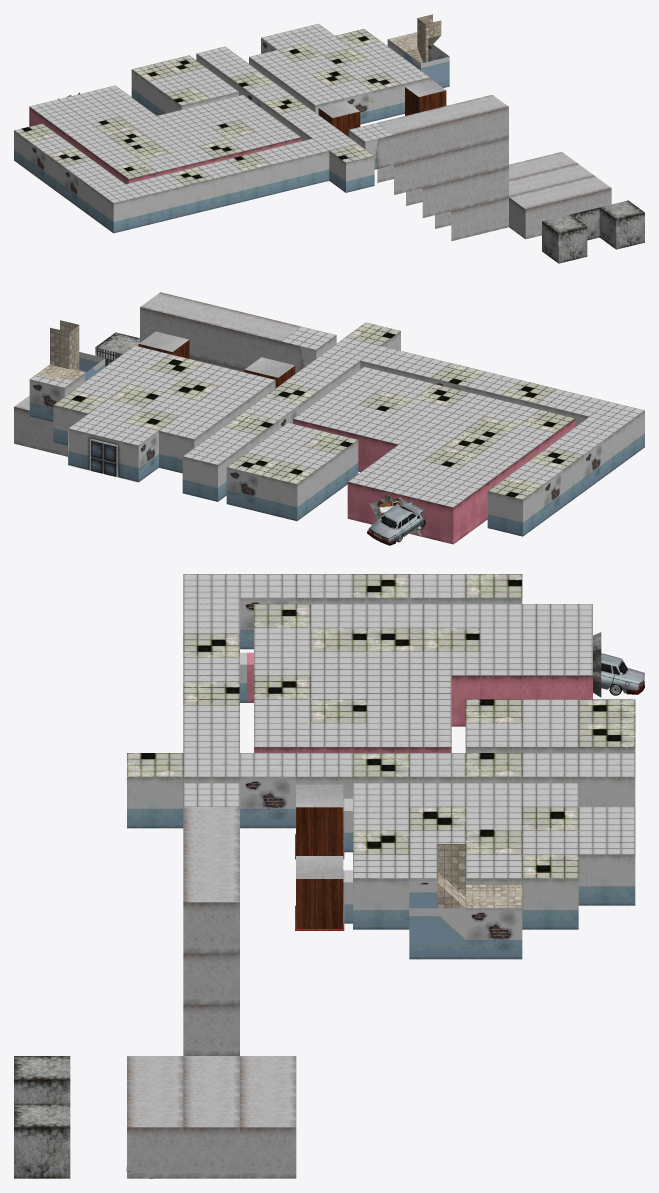
Rendered from Map.fbx.
The picture shows the model from 3 angles, top to bottom: view 1: azimuth 30°, elevation 25°; view 2: azimuth 150°, elevation 25°; view 3: azimuth 270°, elevation 25°; orthographic projection. The views are drawn at different scales.
Parts seen in each view (by area): view 1: Prison, corpsebody, Elevator, Stairs, Elevator.001, NormalWall.033, NormalWall.040, NormalWall.102, NormalWall.106, NormalWall.108, NormalWall.109, NormalWall.035 (+109 smaller); view 2: NormalWall.074, NormalWall.062, car, NormalWall.099, crackedWall.001, NormalWall.030, NormalWall.008, NormalWall.047, Stairs, NormalWall.130, NormalWall.051, NormalWall.001 (+105 smaller); view 3: corpsebody, Prison, Elevator, Elevator.001, NormalWall.010, NormalWall.063, NormalWall.005, NormalWall.012, NormalWall.018, NormalWall.133, NormalWall.135, NormalWall.141 (+94 smaller).
Part boxes in pixels (x1,y1,x2,y2): Prison: [542, 200, 644, 263]; corpsebody: [509, 176, 611, 239]; Elevator: [405, 80, 446, 115]; Stairs: [405, 14, 441, 63]; Elevator.001: [318, 101, 360, 136]; NormalWall.033: [300, 151, 329, 187]; NormalWall.040: [185, 179, 214, 215]; NormalWall.102: [451, 204, 480, 241]; NormalWall.106: [451, 144, 480, 180]; NormalWall.108: [422, 151, 451, 187]; NormalWall.109: [422, 121, 451, 157]; NormalWall.035: [271, 158, 300, 194]; NormalWall.074: [347, 482, 453, 544]; NormalWall.062: [68, 429, 138, 481]; car: [367, 501, 424, 545]; NormalWall.099: [487, 491, 522, 536]; crackedWall.001: [226, 467, 261, 512]; NormalWall.030: [210, 324, 245, 369]; NormalWall.008: [182, 456, 217, 501]; NormalWall.047: [262, 476, 297, 520]; Stairs: [50, 320, 85, 372]; NormalWall.130: [14, 407, 49, 451]; NormalWall.051: [175, 315, 210, 360]; NormalWall.001: [29, 379, 64, 421]; corpsebody: [126, 1056, 183, 1178]; Prison: [14, 1056, 70, 1178]; Elevator: [295, 856, 344, 930]; Elevator.001: [295, 784, 344, 859]; NormalWall.010: [465, 908, 522, 959]; NormalWall.063: [578, 854, 635, 905]; NormalWall.005: [353, 878, 409, 929]; NormalWall.012: [409, 908, 465, 959]; NormalWall.018: [522, 878, 578, 929]; NormalWall.133: [240, 1127, 296, 1178]; NormalWall.135: [183, 1127, 239, 1178]; NormalWall.141: [183, 1004, 239, 1055].
Bounding box in the file's own units: 6701 × 2001 × 4469.
